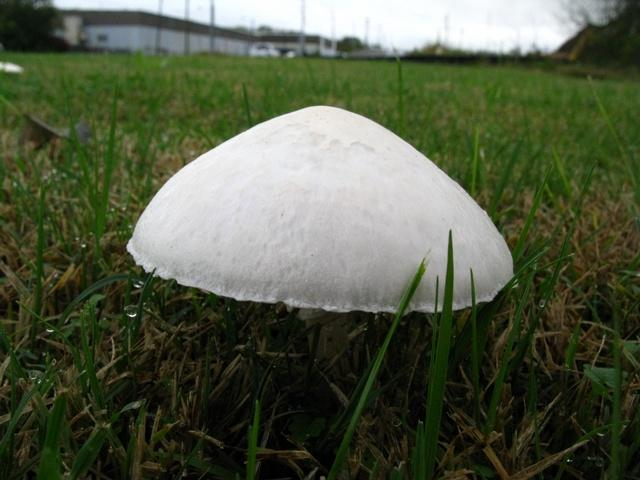poisonous_mushroom: (125, 102, 516, 361)
